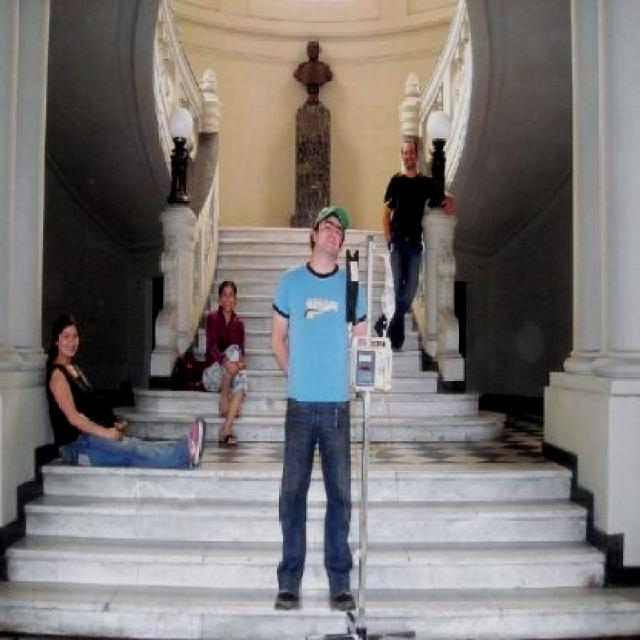stair: (2, 227, 640, 638)
